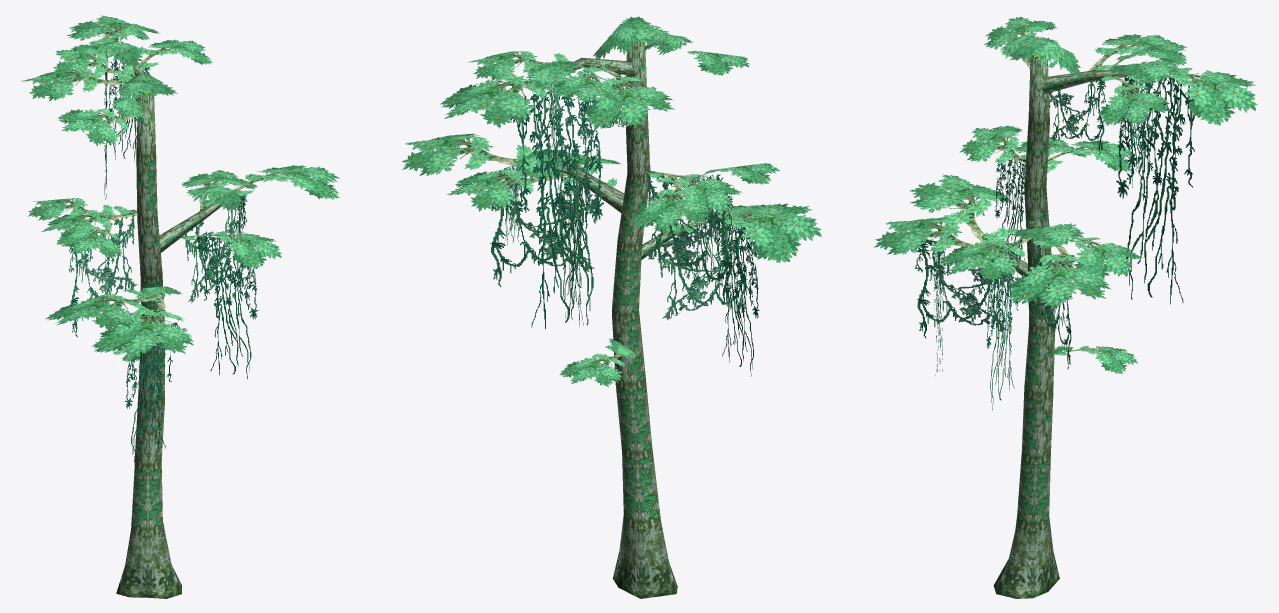
File: nml-bd062.glb
The picture shows the model from 3 angles, left to right: view 1: azimuth 30°, elevation 25°; view 2: azimuth 150°, elevation 25°; view 3: azimuth 270°, elevation 25°; orthographic projection. The views are drawn at different scales.
Visible parts, largest first — view 1: geom_node_2, geom_node_1, geom_node_0, geom_node_3; view 2: geom_node_2, geom_node_1, geom_node_0, geom_node_3; view 3: geom_node_2, geom_node_1, geom_node_3, geom_node_0.
Part boxes in pixels (bbox=[...]): geom_node_2: bbox=[21, 15, 212, 337]; geom_node_1: bbox=[45, 195, 258, 461]; geom_node_0: bbox=[116, 396, 181, 598]; geom_node_3: bbox=[159, 165, 339, 268]; geom_node_2: bbox=[440, 16, 779, 328]; geom_node_1: bbox=[489, 161, 821, 387]; geom_node_0: bbox=[613, 378, 677, 598]; geom_node_3: bbox=[402, 133, 624, 213]; geom_node_2: bbox=[959, 17, 1257, 304]; geom_node_1: bbox=[874, 174, 1137, 410]; geom_node_3: bbox=[940, 220, 1143, 309]; geom_node_0: bbox=[993, 392, 1059, 598].
Bounding box in the file's own units: 10.61 × 14.32 × 9.68.
Materials: 9 (9 with a texture image).
